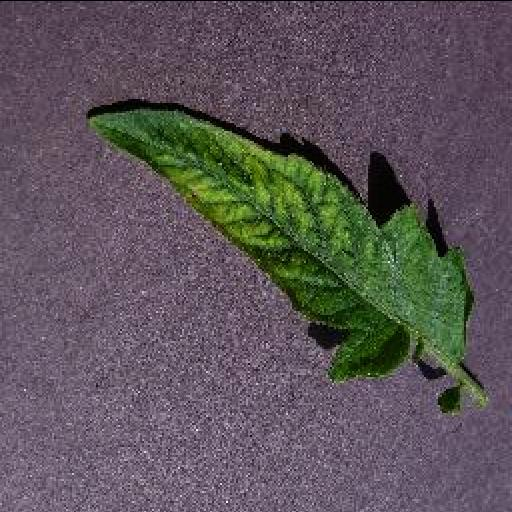Mosaic Virus: (82, 101, 468, 383)
